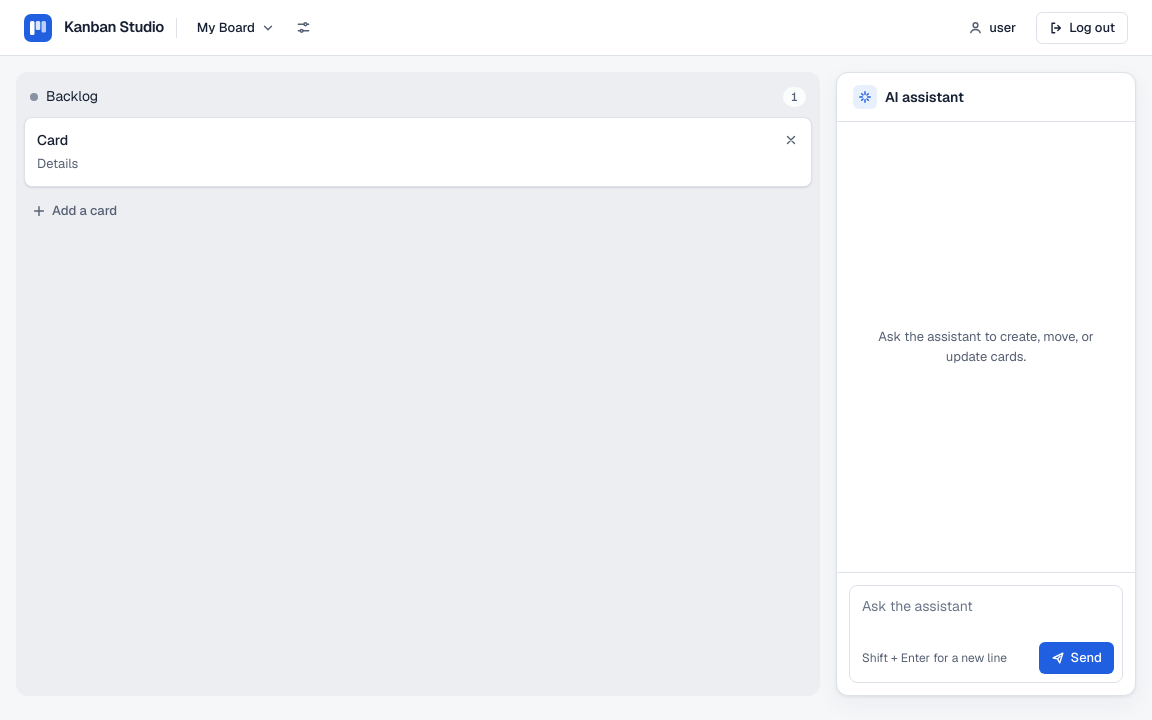
Test: Home page: sign in › returns to the login screen when the session ends mid-use
This screenshot has width=1152, height=720.
Click the button named "delete card": (791, 140) [779,128,803,152]
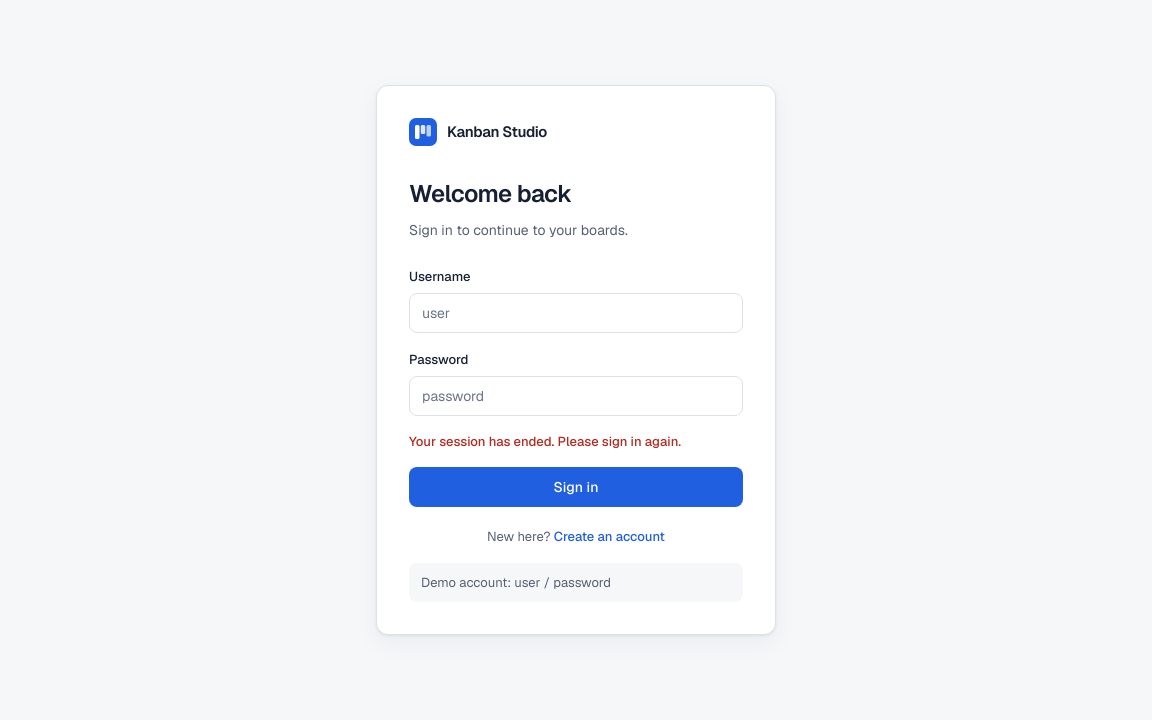
expect the heading "Welcome back" is shown: met, box [409,178,572,209]
expect the message shows "Your session has ended": met, box [409,433,681,450]
